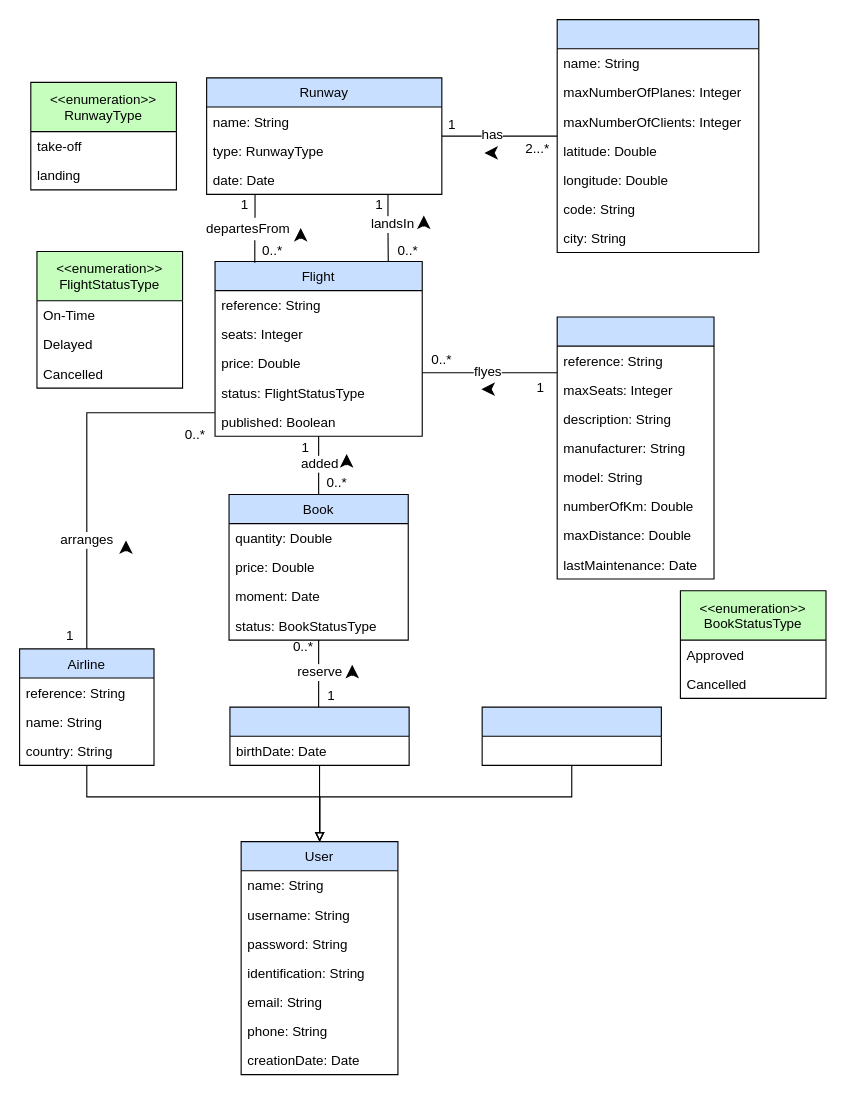
The diagram is 846 pixels wide and 1098 high, and some of its shapes have lost their labels. The box of each missing label's shape, as (x1, y1, x2, y2) in pixels:
Administrator: (481, 706, 661, 765)
Airport: (556, 18, 759, 253)
Client: (229, 706, 409, 765)
Plane: (556, 316, 714, 579)
